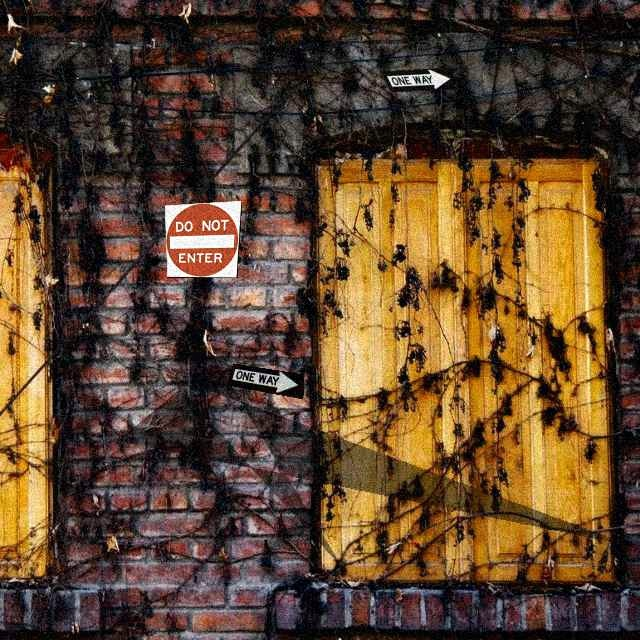DO_NOT_ENTER: (164, 200, 242, 278)
ONE_WAY_ right: (226, 363, 304, 399), (380, 67, 458, 92)
